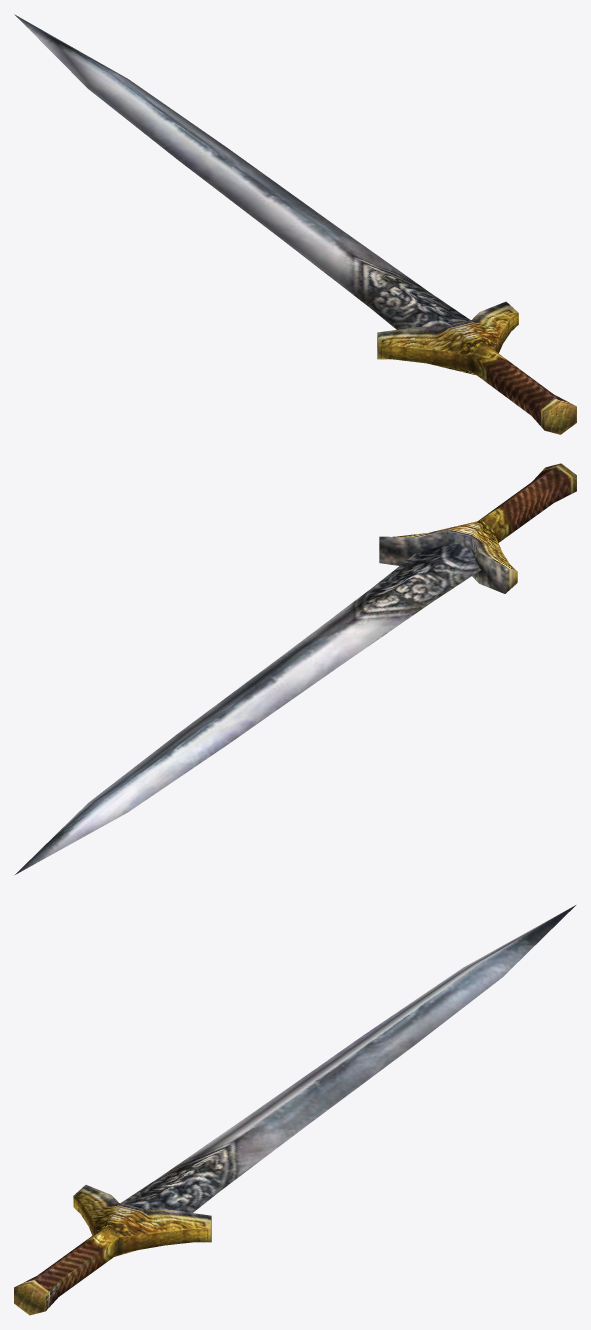
Rendered from sword_03.glb.
3 renders of one model, top to bottom at view 1: azimuth 30°, elevation 25°; view 2: azimuth 150°, elevation 25°; view 3: azimuth 330°, elevation 25°, orthographic.
Visible parts, largest first — view 1: sword_03; view 2: sword_03; view 3: sword_03.
Part boxes in pixels (left/top/right/bottom): sword_03: left=14, top=14, right=576, bottom=434; sword_03: left=15, top=463, right=576, bottom=874; sword_03: left=14, top=905, right=575, bottom=1315.
Bounding box in the file's own units: 1.51 × 0.4061 × 10.29.
Materials: 1 (1 with a texture image).
